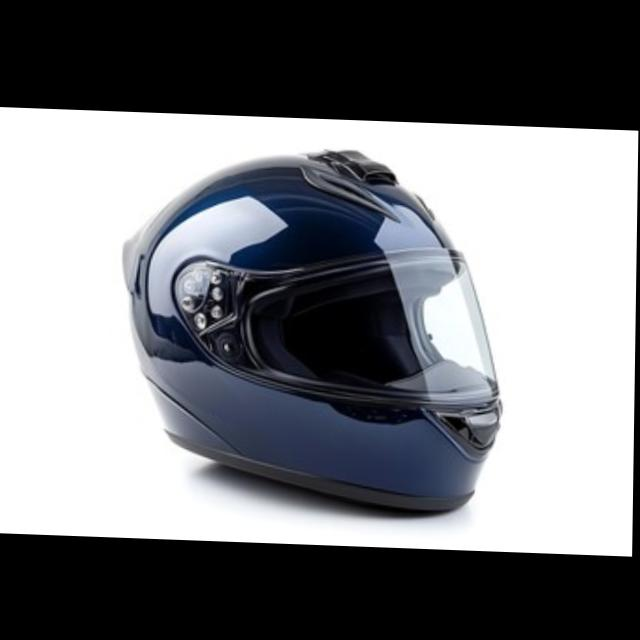motorcycle-helmets: (114, 144, 526, 526)
